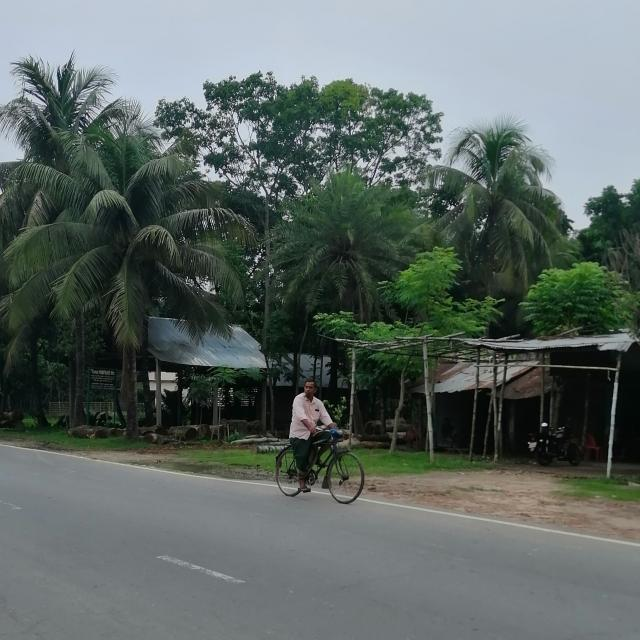Bicycle: (269, 414, 379, 515)
